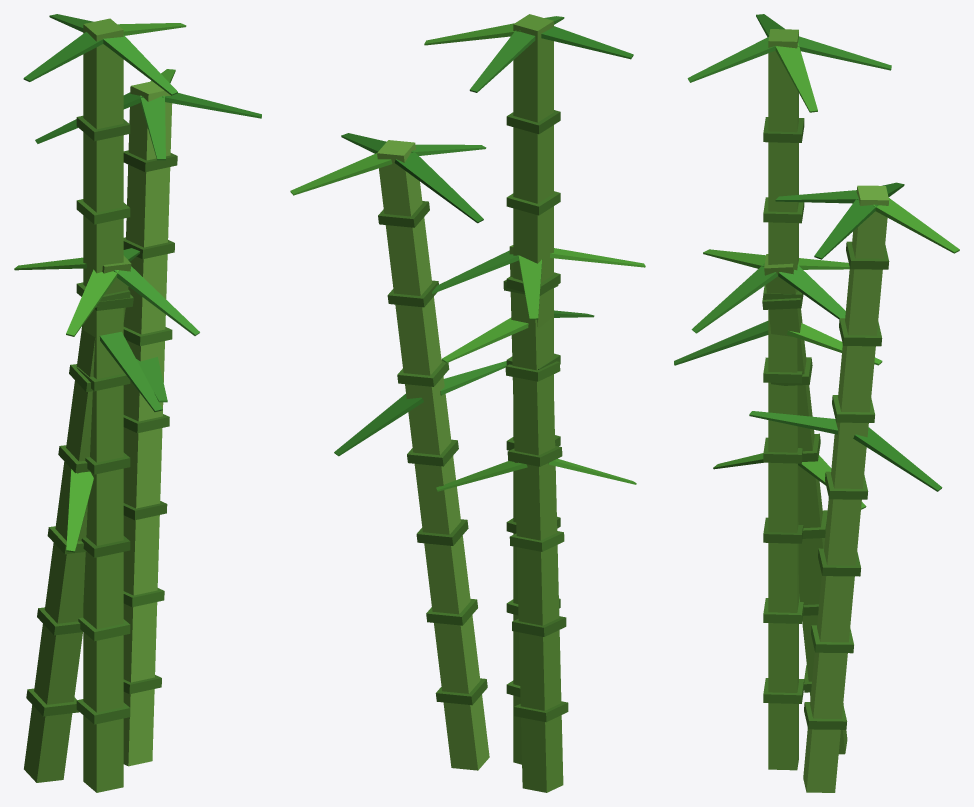
The model's file is bamboo.glb.
3 renders of one model, left to right at view 1: azimuth 30°, elevation 25°; view 2: azimuth 150°, elevation 25°; view 3: azimuth 270°, elevation 25°, orthographic. The views are drawn at different scales.
Parts seen in each view (by area): view 1: bamboo; view 2: bamboo; view 3: bamboo.
Boxes of the visible parts, x1,y1,x2,y2 form: bamboo: [14, 14, 261, 792]; bamboo: [290, 14, 645, 792]; bamboo: [674, 14, 959, 792].
Bounding box in the file's own units: 1.85 × 5.02 × 1.78.
